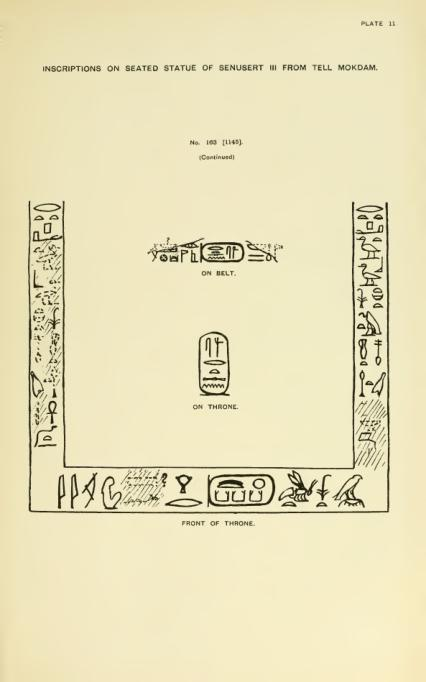circle: (195, 326, 237, 400), (204, 471, 275, 510), (198, 242, 246, 265)
